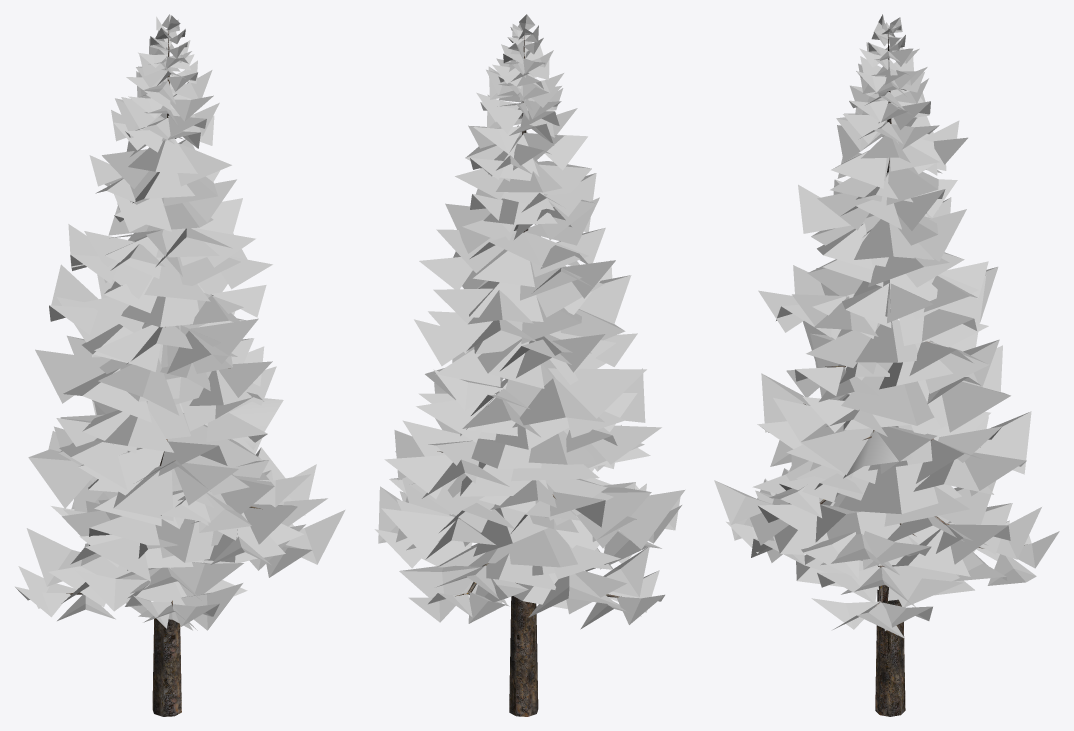
File: tree_2.fbx
3 views of the same model, side by side, from view 1: azimuth 30°, elevation 25°; view 2: azimuth 150°, elevation 25°; view 3: azimuth 270°, elevation 25° (orthographic).
Visible parts, largest first — view 1: methyl_tree04; view 2: methyl_tree04; view 3: methyl_tree04.
Part boxes in pixels (<box>): methyl_tree04: <box>14,14,345,716</box>; methyl_tree04: <box>374,14,685,716</box>; methyl_tree04: <box>714,14,1059,716</box>.
Size of the model in its own units: 663 by 1429 by 643.
